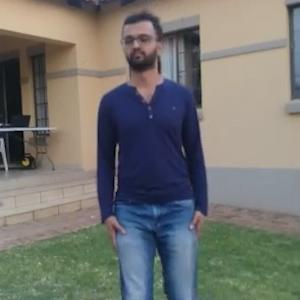follow: (101, 24, 201, 299)
